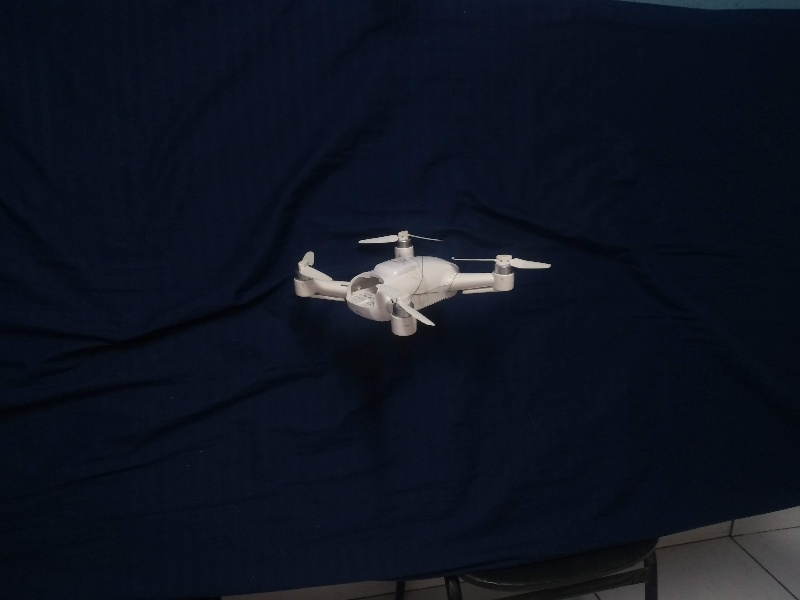drone: (283, 213, 546, 345)
